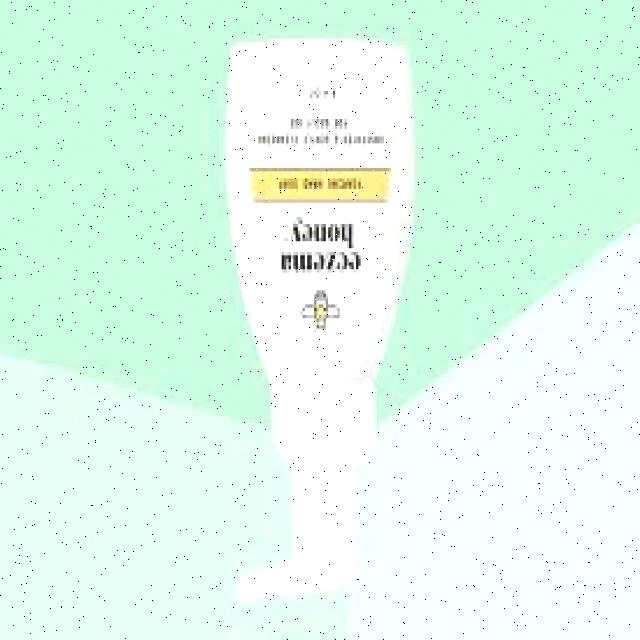liquid soap: (214, 33, 409, 627)
